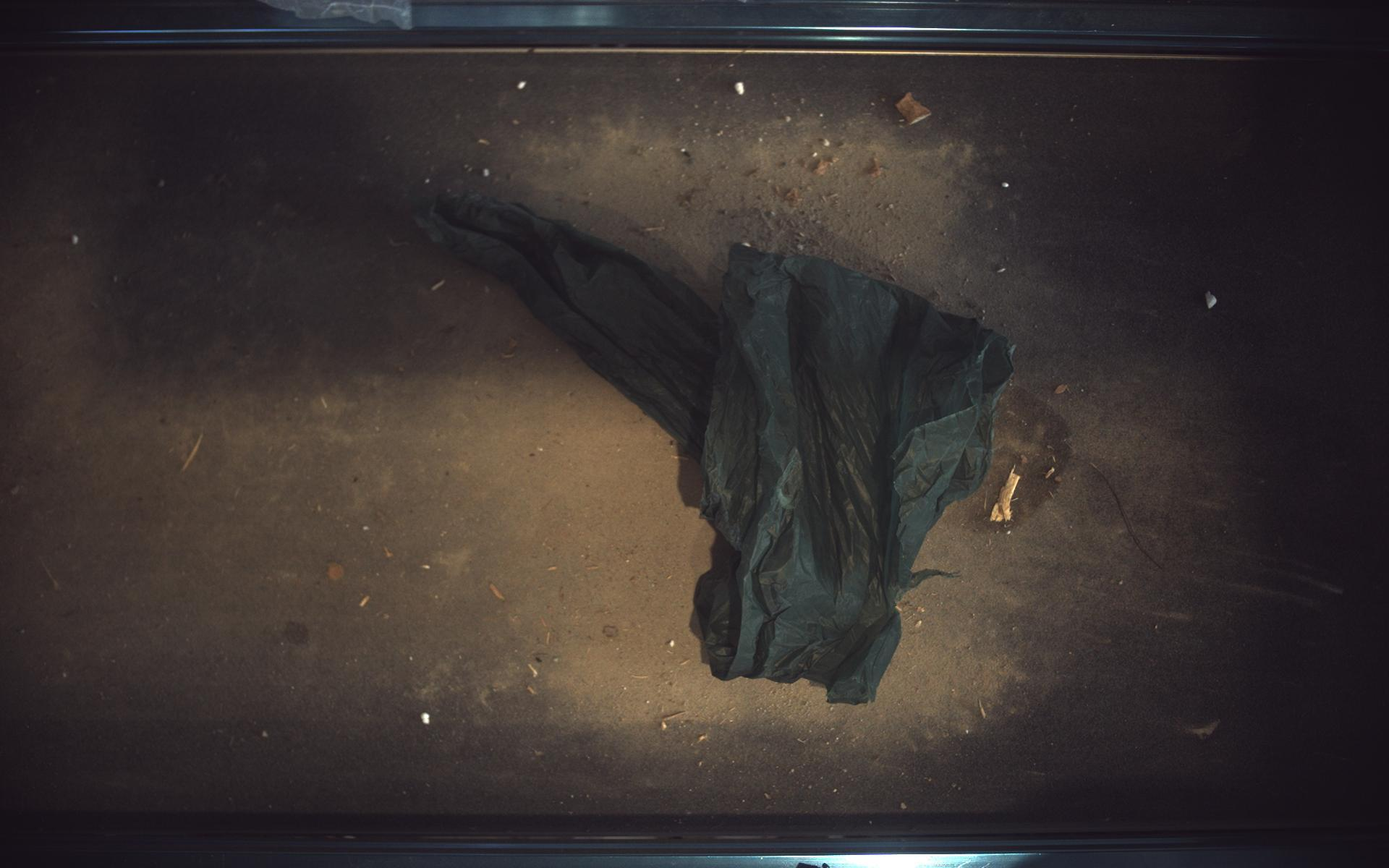general_w: (417, 192, 1015, 705)
